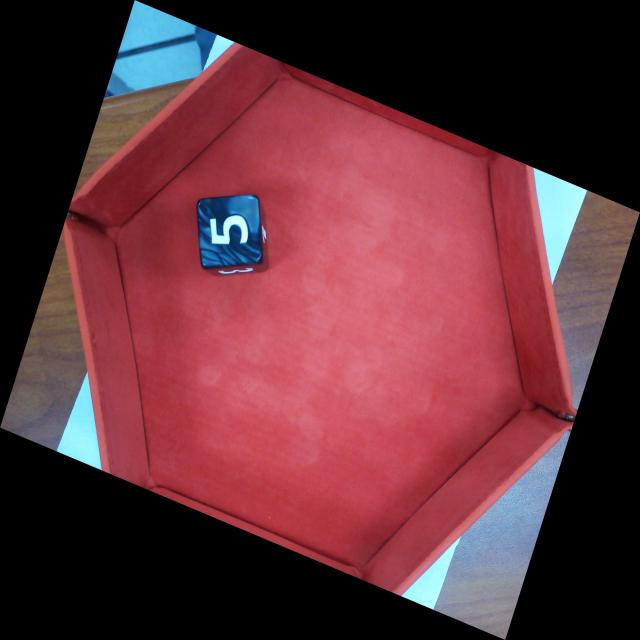dice: (195, 193, 266, 270)
